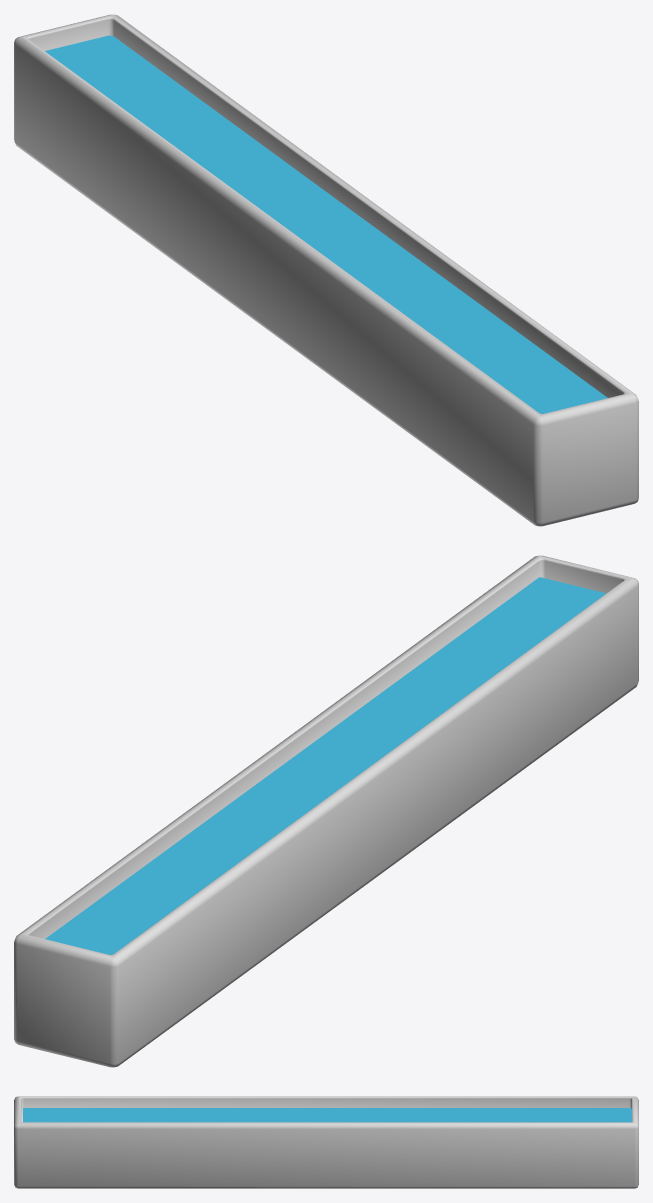
Rendered from WaterPool.fbx.
3 renders of one model, top to bottom at view 1: azimuth 30°, elevation 25°; view 2: azimuth 150°, elevation 25°; view 3: azimuth 270°, elevation 25°, orthographic. The views are drawn at different scales.
Parts seen in each view (by area): view 1: WaterPool, WaterPlane; view 2: WaterPool, WaterPlane; view 3: WaterPool, WaterPlane.
Part boxes in pixels (left/top/right/bottom): WaterPool: left=14, top=14, right=638, bottom=526; WaterPlane: left=45, top=35, right=607, bottom=413; WaterPool: left=14, top=555, right=638, bottom=1067; WaterPlane: left=45, top=577, right=606, bottom=954; WaterPool: left=14, top=1096, right=638, bottom=1188; WaterPlane: left=23, top=1108, right=631, bottom=1122.
Size of the model in its own units: 170 by 170 by 1475.
